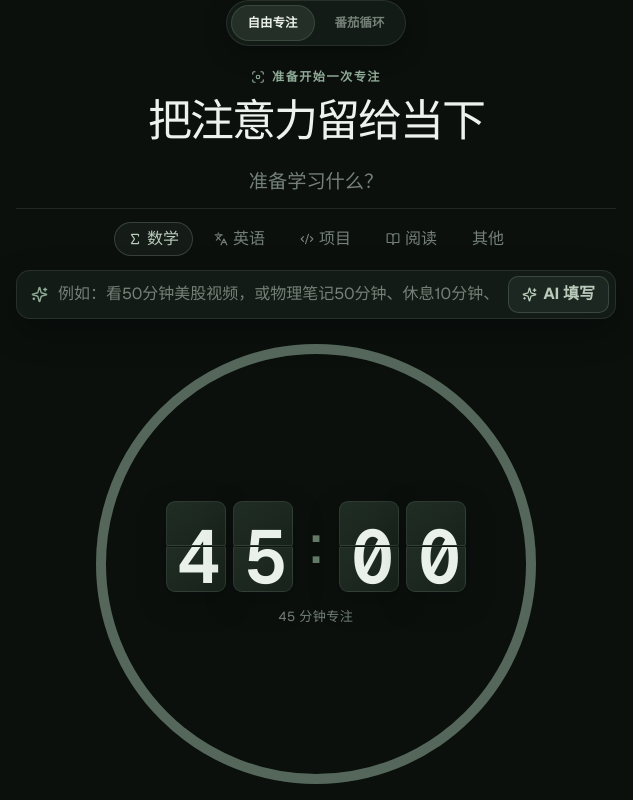
Test: FocusTimer unified AI input › keeps a null free-focus task and duration from clearing current values
This screenshot has width=633, height=800.
Step 1. Type "学习英语" into the field named "用自然语言设置计时器" → [278, 294], box [58,282,498,306]
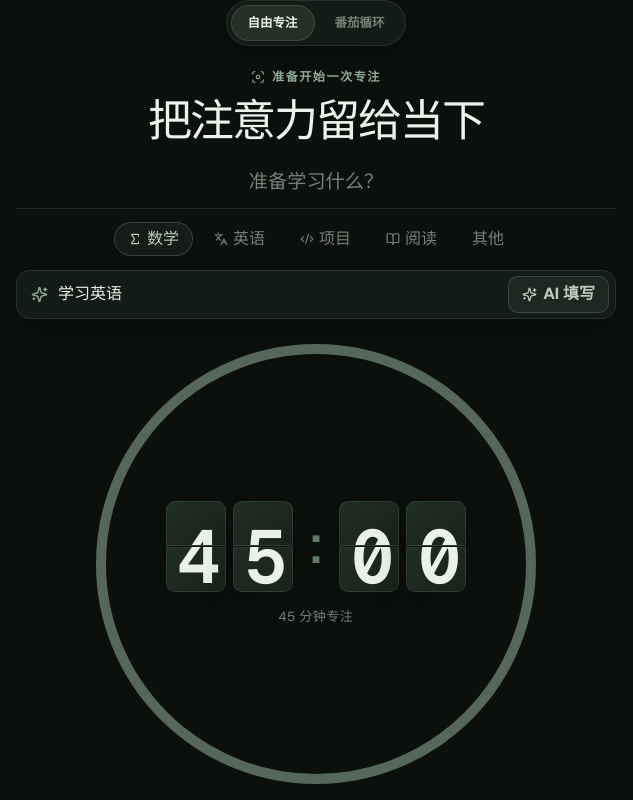
Step 2. Click the button "AI 填写" → [559, 294], box [508,276,609,313]
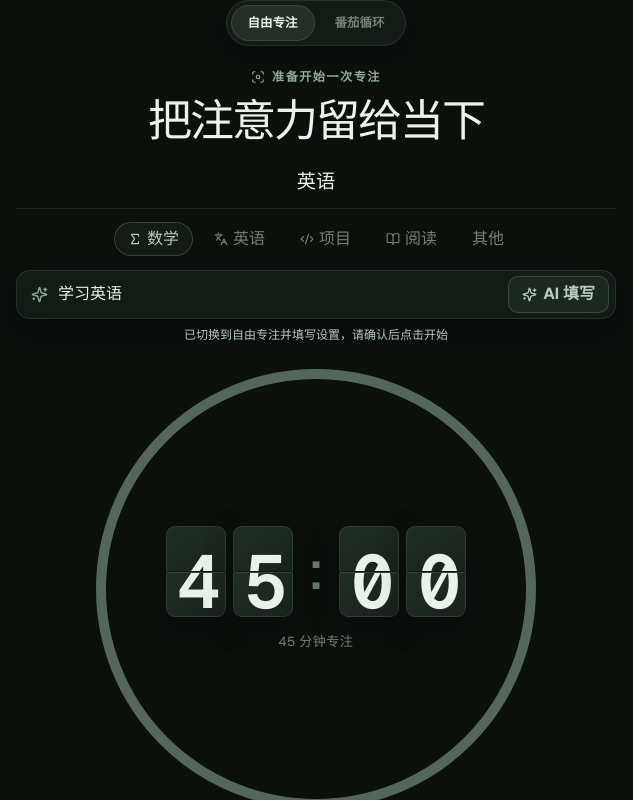
Expected: the element named "剩余时间 45:00" is shown, [166,526,466,617]
Now the 1st field named "本次学习任务" holds "英语", box [16,157,616,209]
